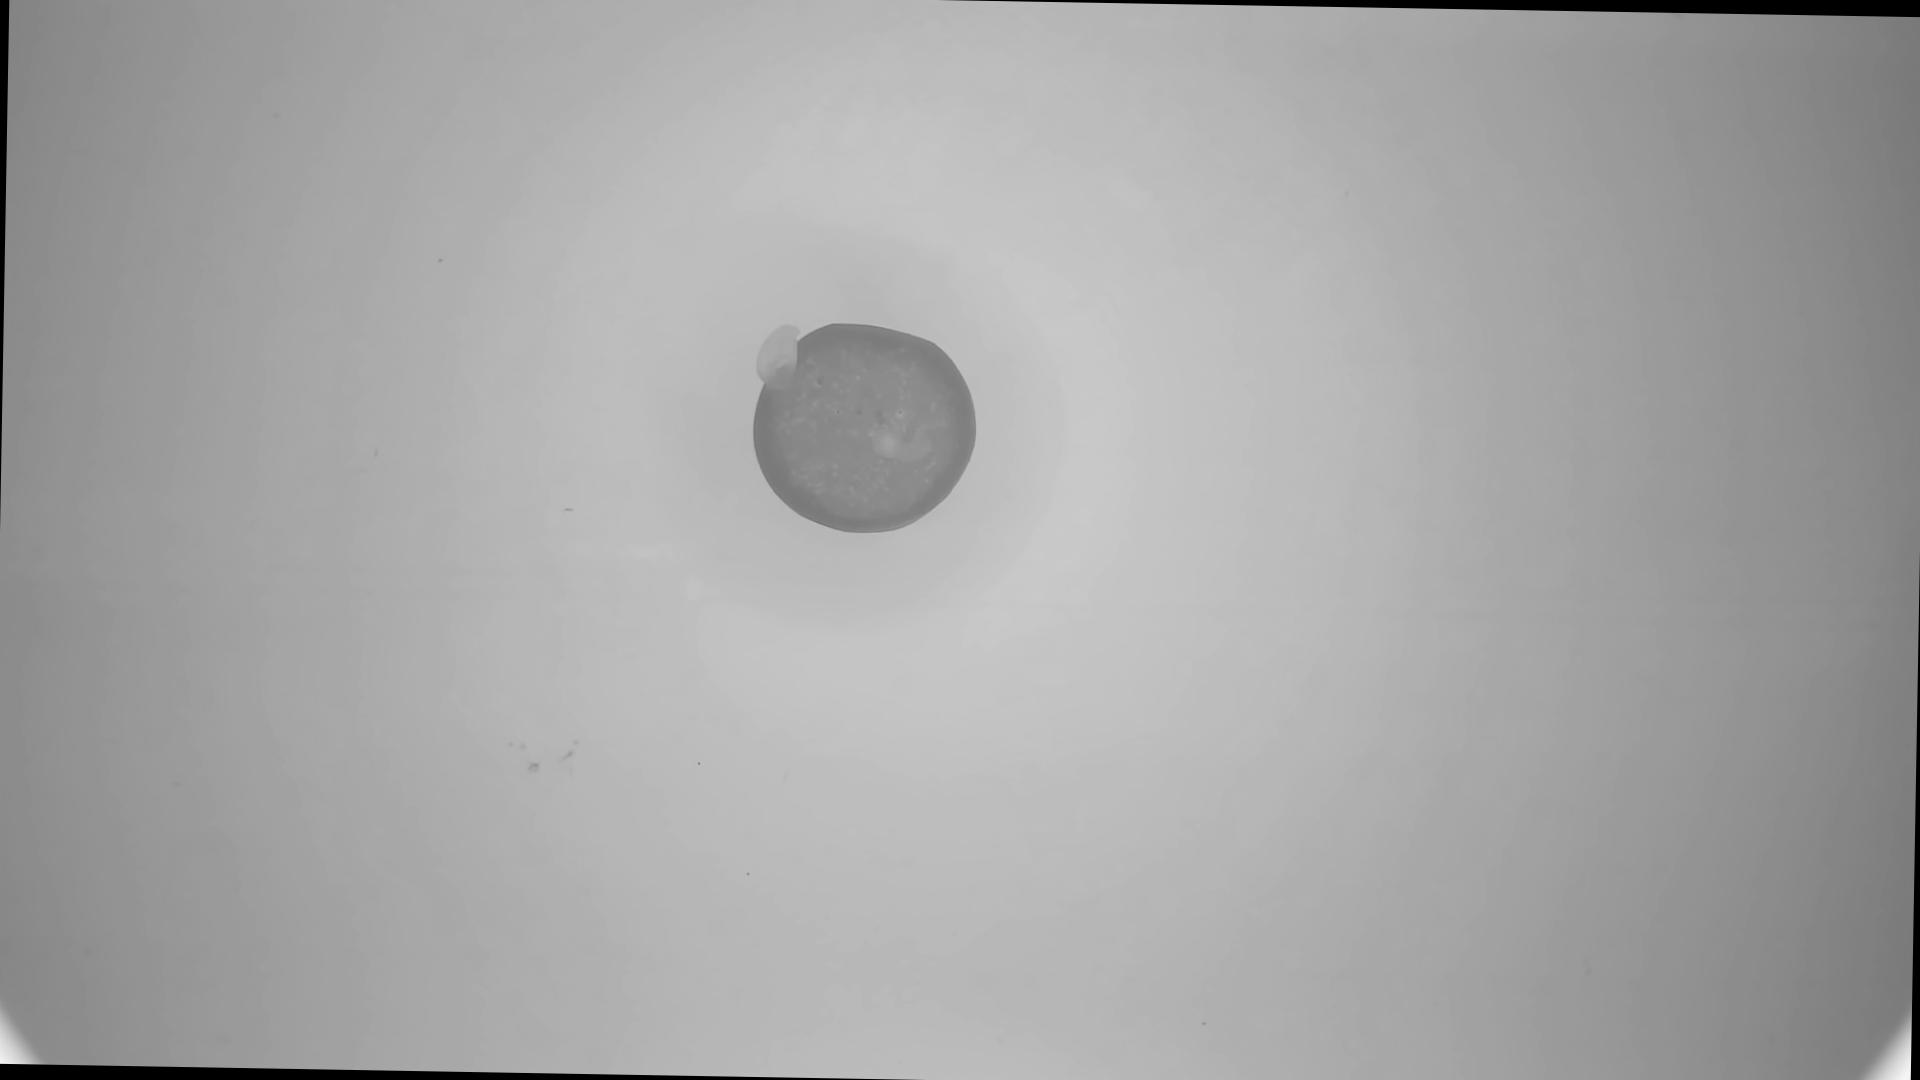abnormal: (746, 314, 985, 539)
